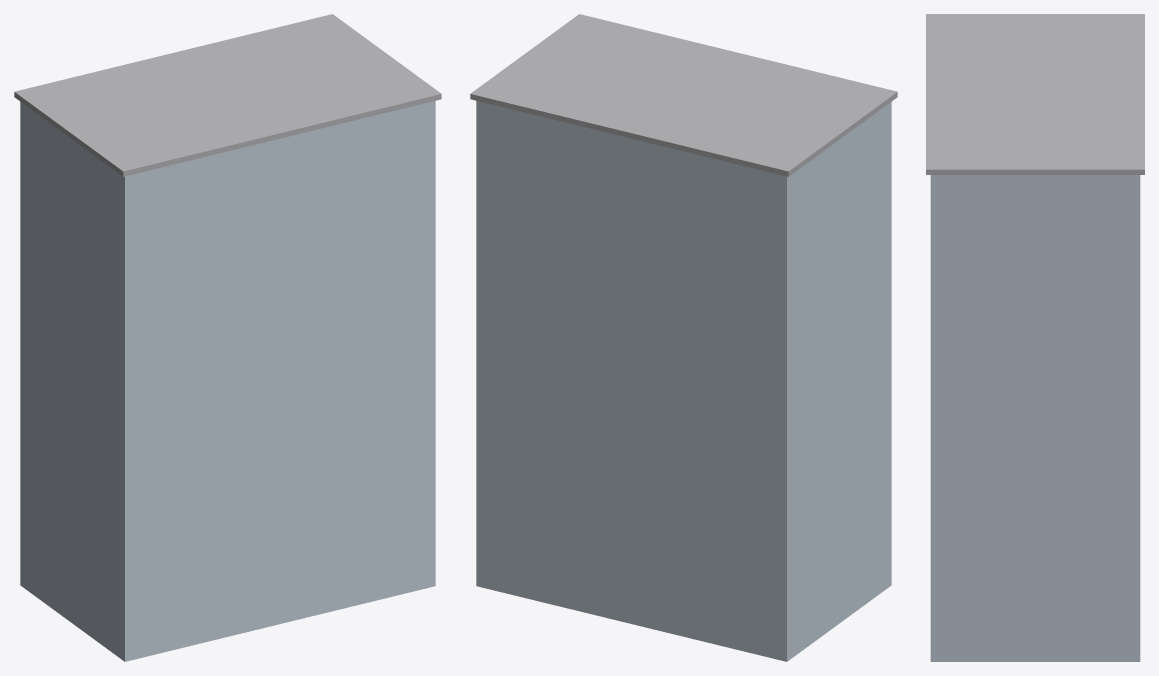
The model's file is tower-a.lod.glb.
3 renders of one model, left to right at view 1: azimuth 30°, elevation 25°; view 2: azimuth 150°, elevation 25°; view 3: azimuth 270°, elevation 25°, orthographic.
Visible parts, largest first — view 1: Body, Roof; view 2: Body, Roof; view 3: Body, Roof.
Part boxes in pixels (box(x1,y1,x2,y2)): Body: box(20, 101, 435, 661); Roof: box(14, 14, 441, 176); Body: box(476, 101, 891, 661); Roof: box(470, 14, 897, 176); Body: box(930, 175, 1140, 661); Roof: box(926, 14, 1144, 174).
Bounding box in the file's own units: 24.6 × 36.4 × 14.6.
